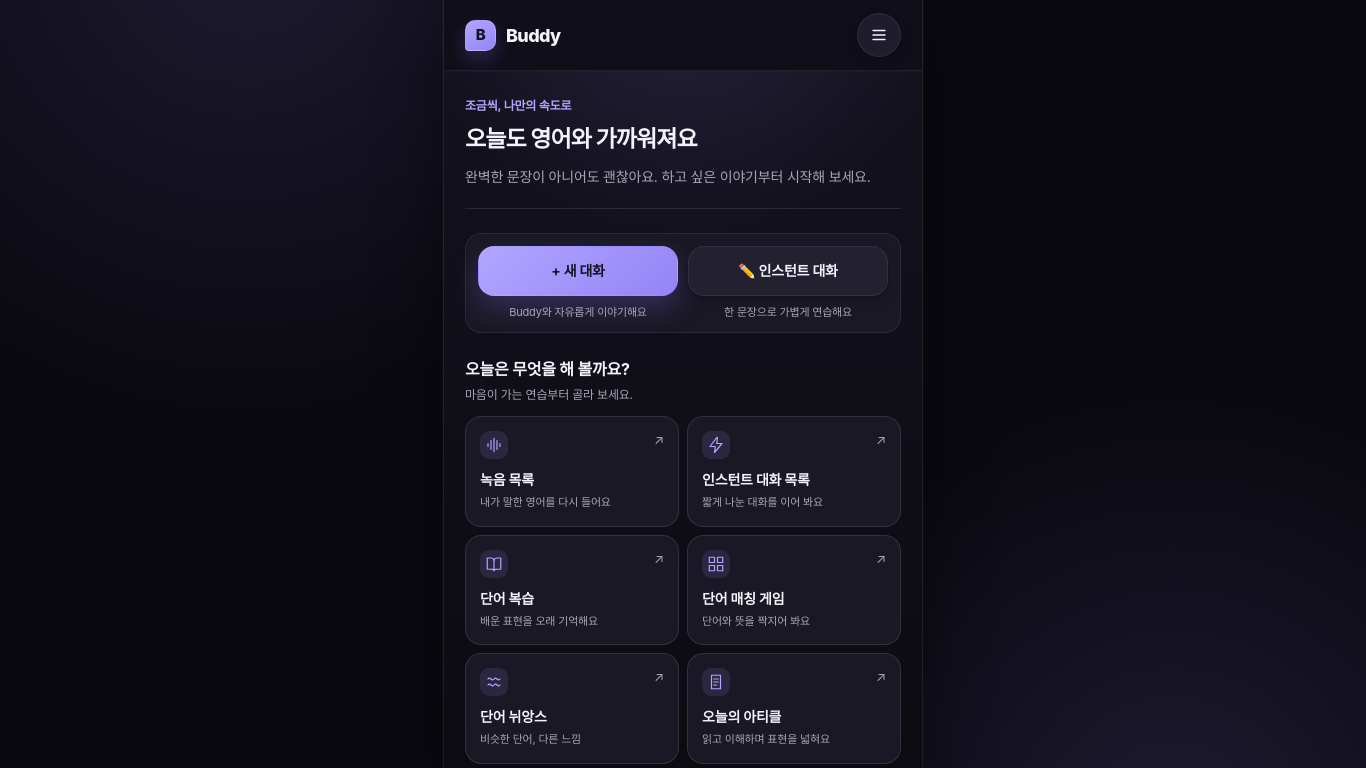
room list › guides a first conversation and offers an inviting message field
Click the button "+ 새 대화".
click(578, 271)  # box [478,246,678,296]
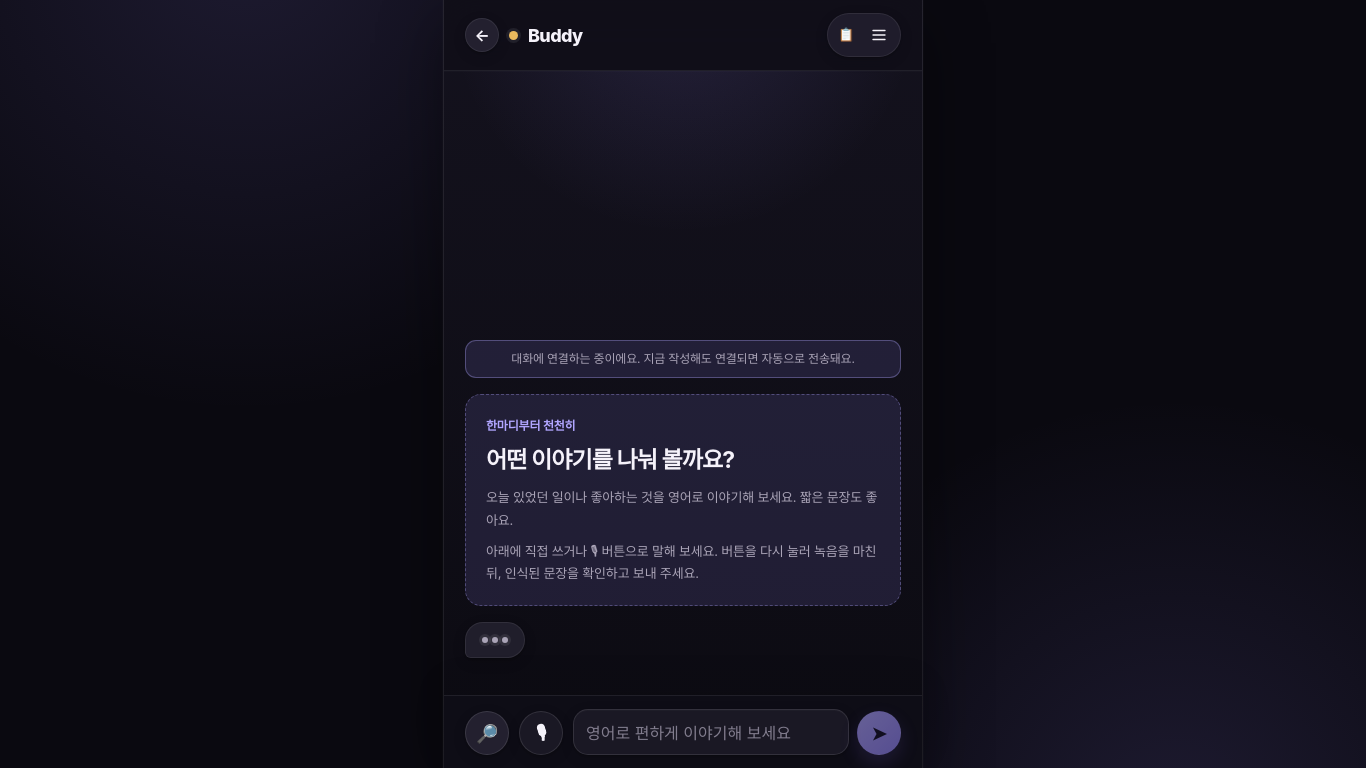
Expected: the button named "메뉴" is shown, [862,18,896,52]
Expected: the heading "어떤 이야기를 나눠 볼까요?" is shown, [486,446,734,474]
Expected: the text "오늘 있었던 일이나 좋아하는 것을 영어로 이야기해 보세요. 짧은 문장도 좋아요." is shown, [486,486,880,532]
